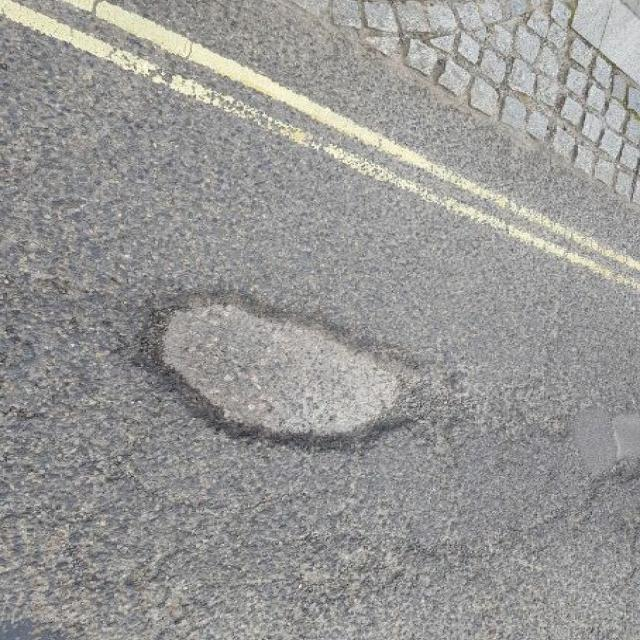pothole: (123, 278, 456, 458)
